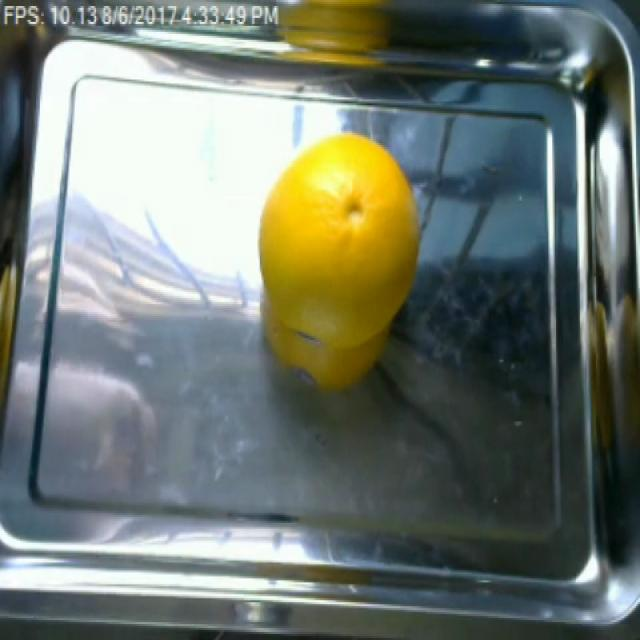Fruit: (251, 123, 425, 390), (268, 0, 401, 64)
